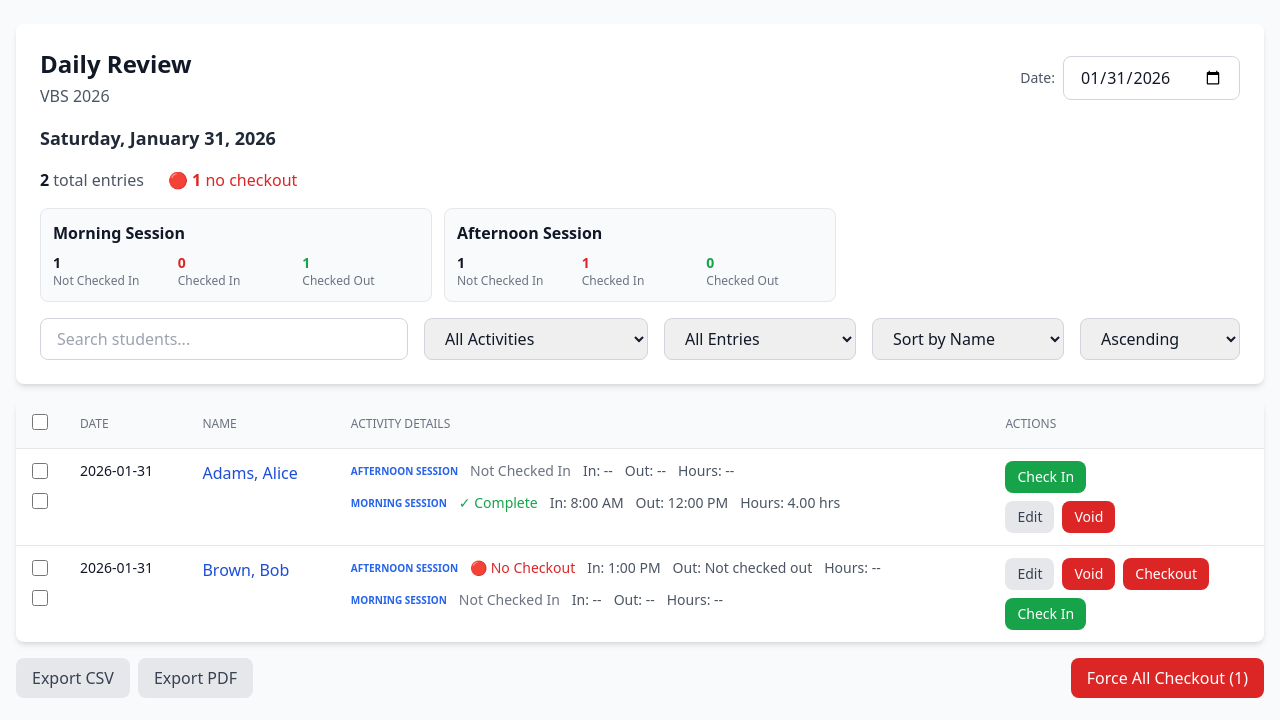
Test case: DailyReview › filter options › should filter a student row by activity and checked-out status
Select "Morning Session" in the dropdown named "Activity filter" at x=536, y=339, box [424,318,648,360]
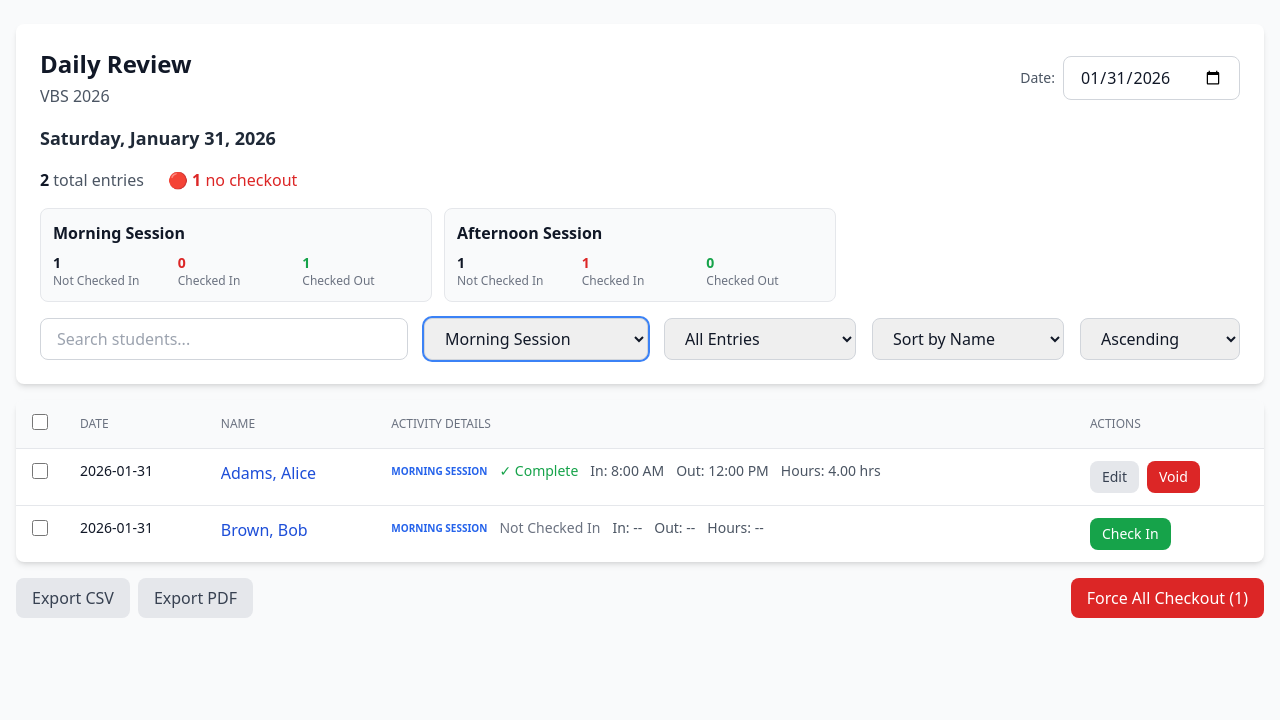
Select "Checked Out" in the dropdown named "Status filter" at x=760, y=339, box [664,318,856,360]
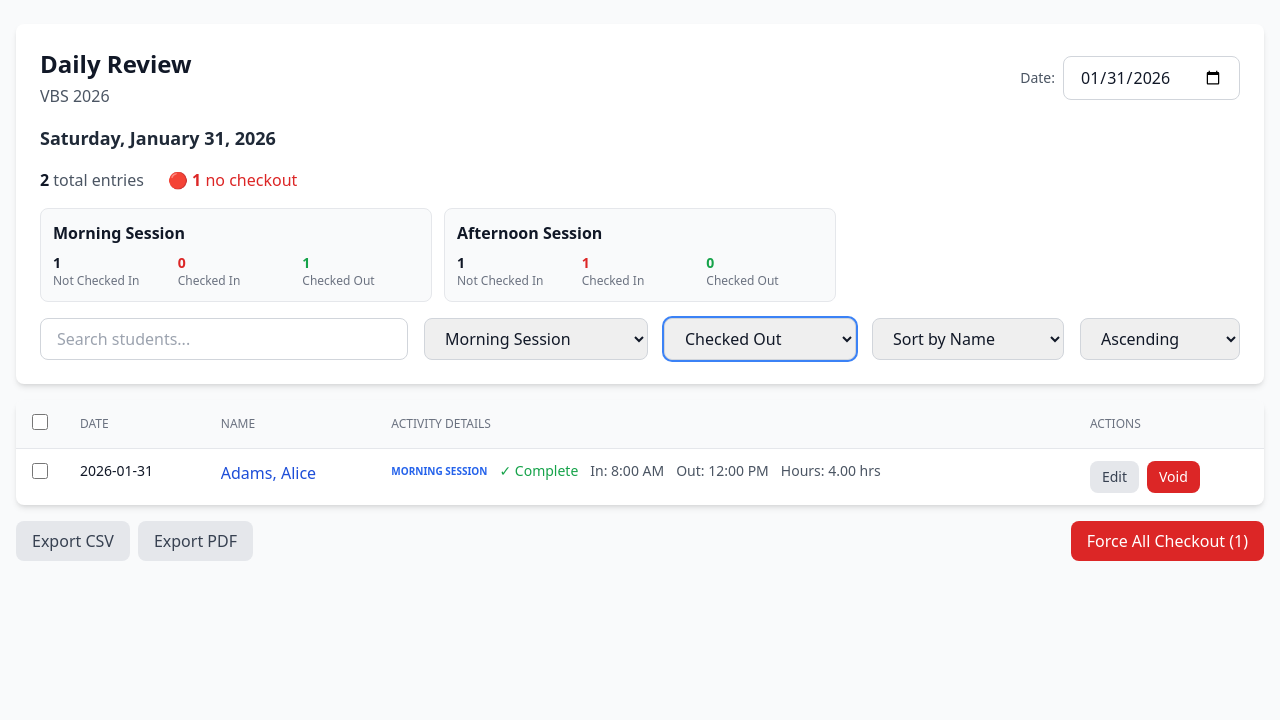
expect the link "Brown, Bob" is gone: met
